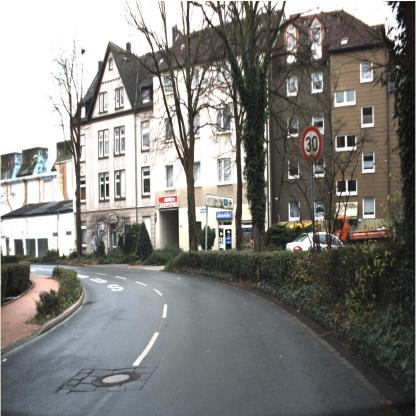prohibitory: (296, 122, 327, 167)
